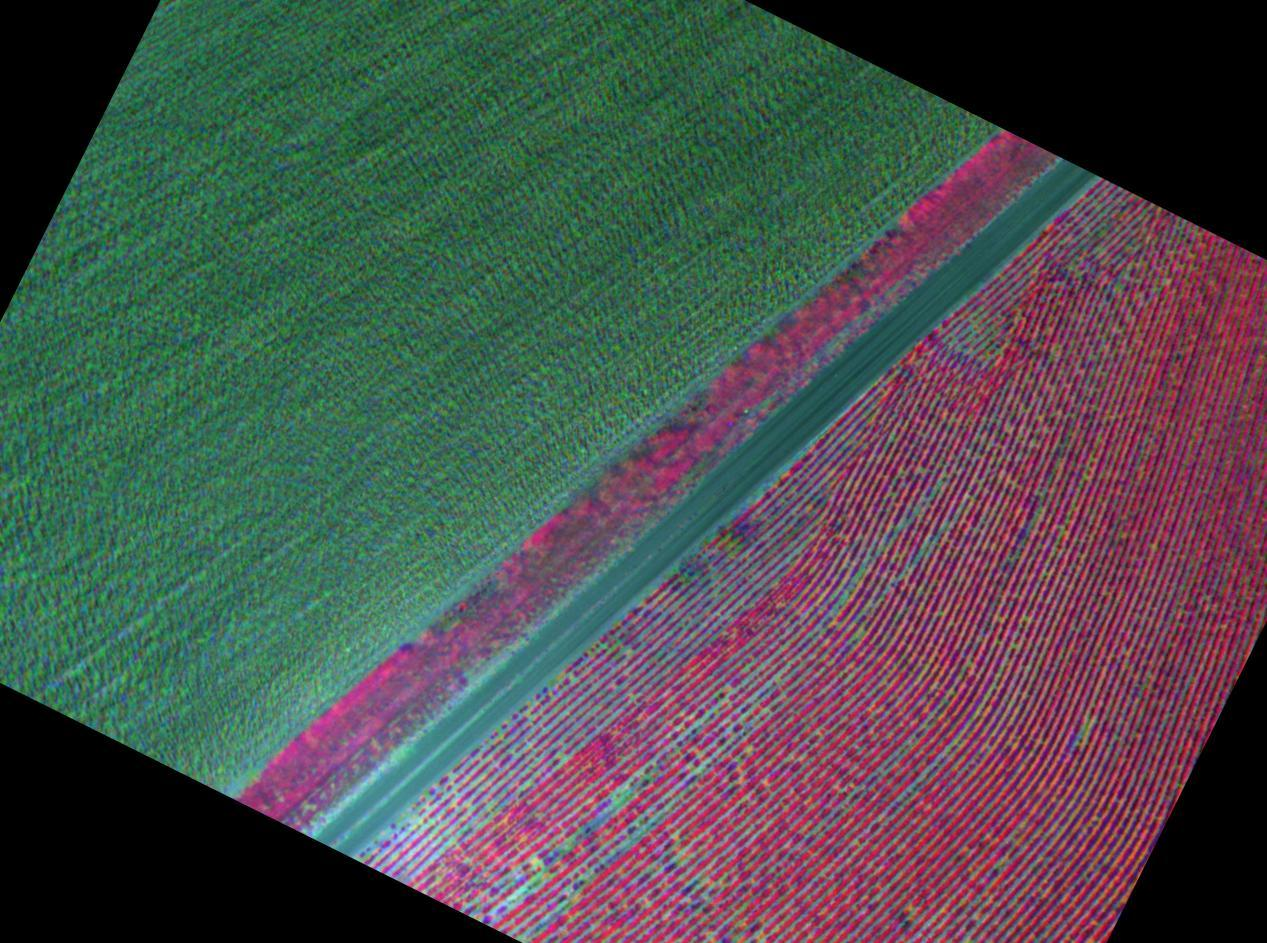dc: (936, 482, 942, 487), (1115, 284, 1120, 289), (1083, 733, 1088, 738), (534, 860, 539, 865), (938, 612, 943, 615)
